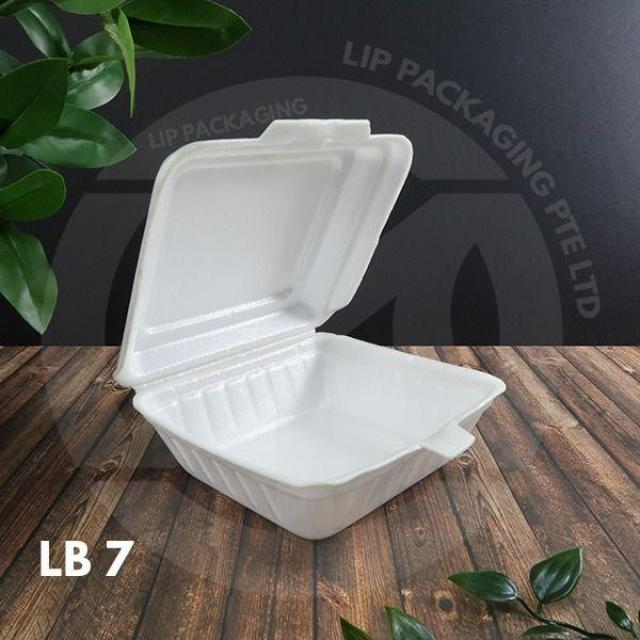styrofoam: (111, 115, 507, 541)
